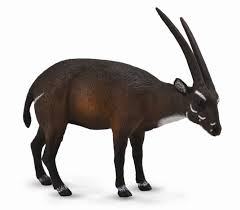sao_la: (22, 9, 221, 195)
